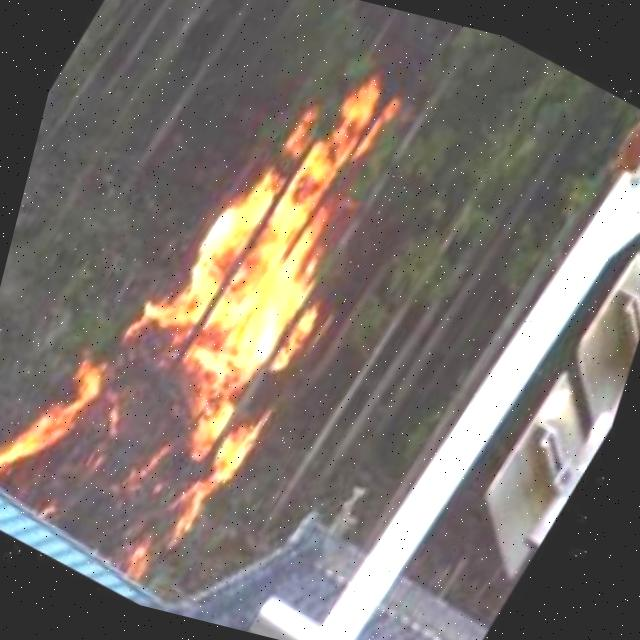fire: (0, 10, 430, 612)
